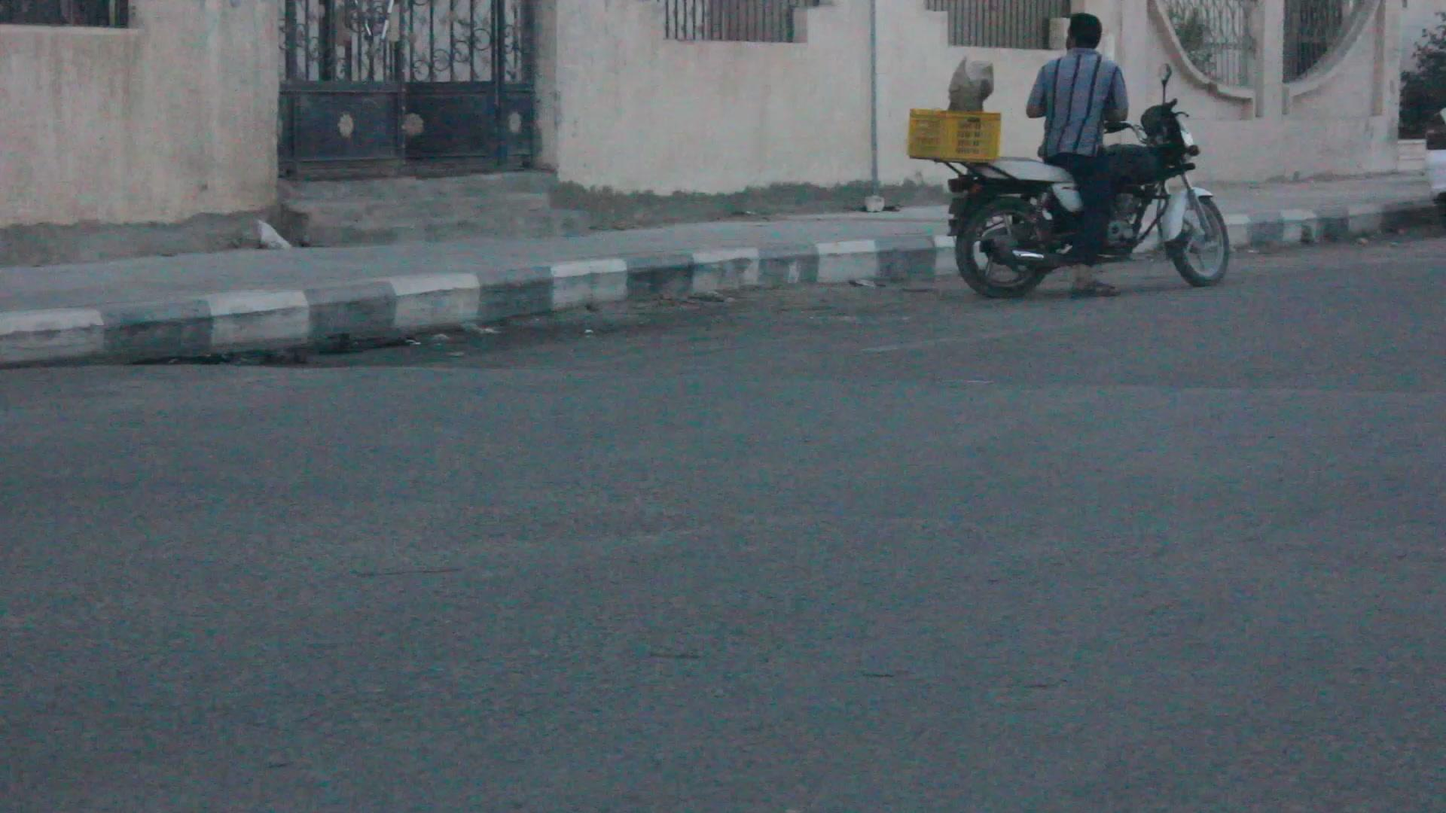Bump: (0, 358, 1445, 529)
